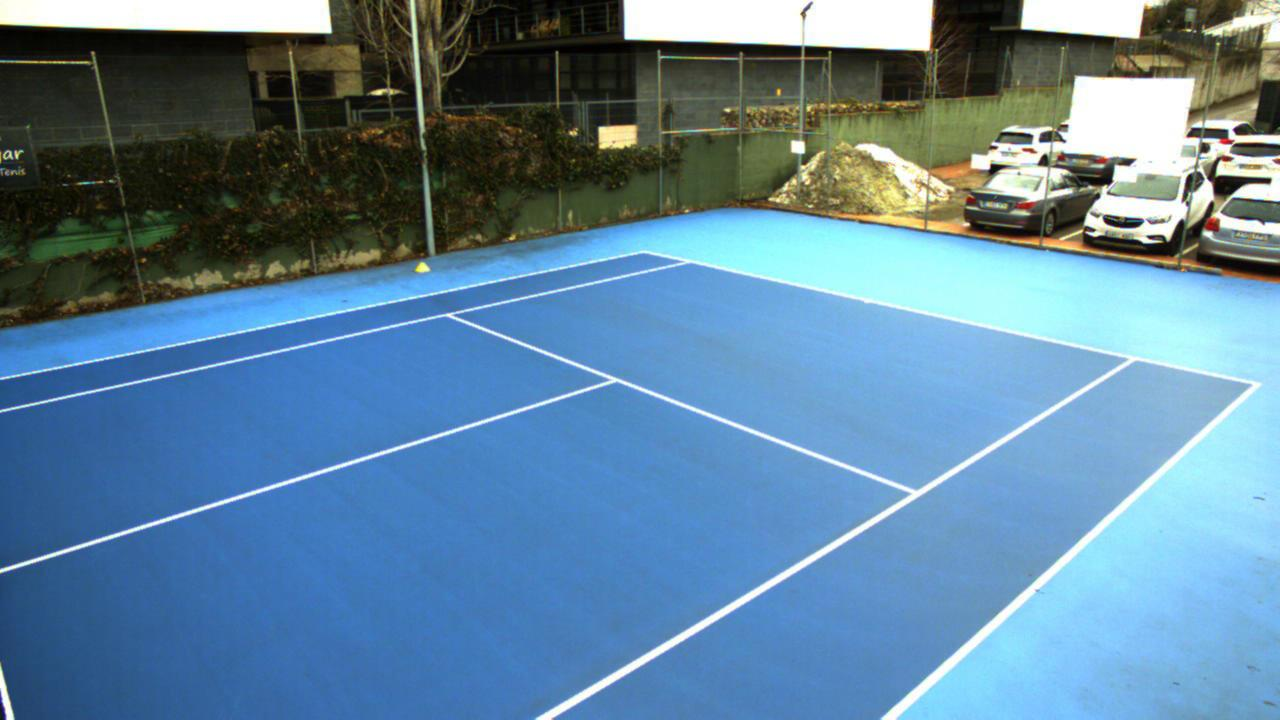cancha_tenis: (0, 257, 1136, 719)
point_f1: (666, 250, 704, 277)
point_f2: (1116, 348, 1142, 372)
point_fc1: (859, 292, 878, 312)
point_i1: (431, 300, 467, 326)
point_i2: (899, 483, 931, 508)
point_ic1: (594, 364, 629, 395)
